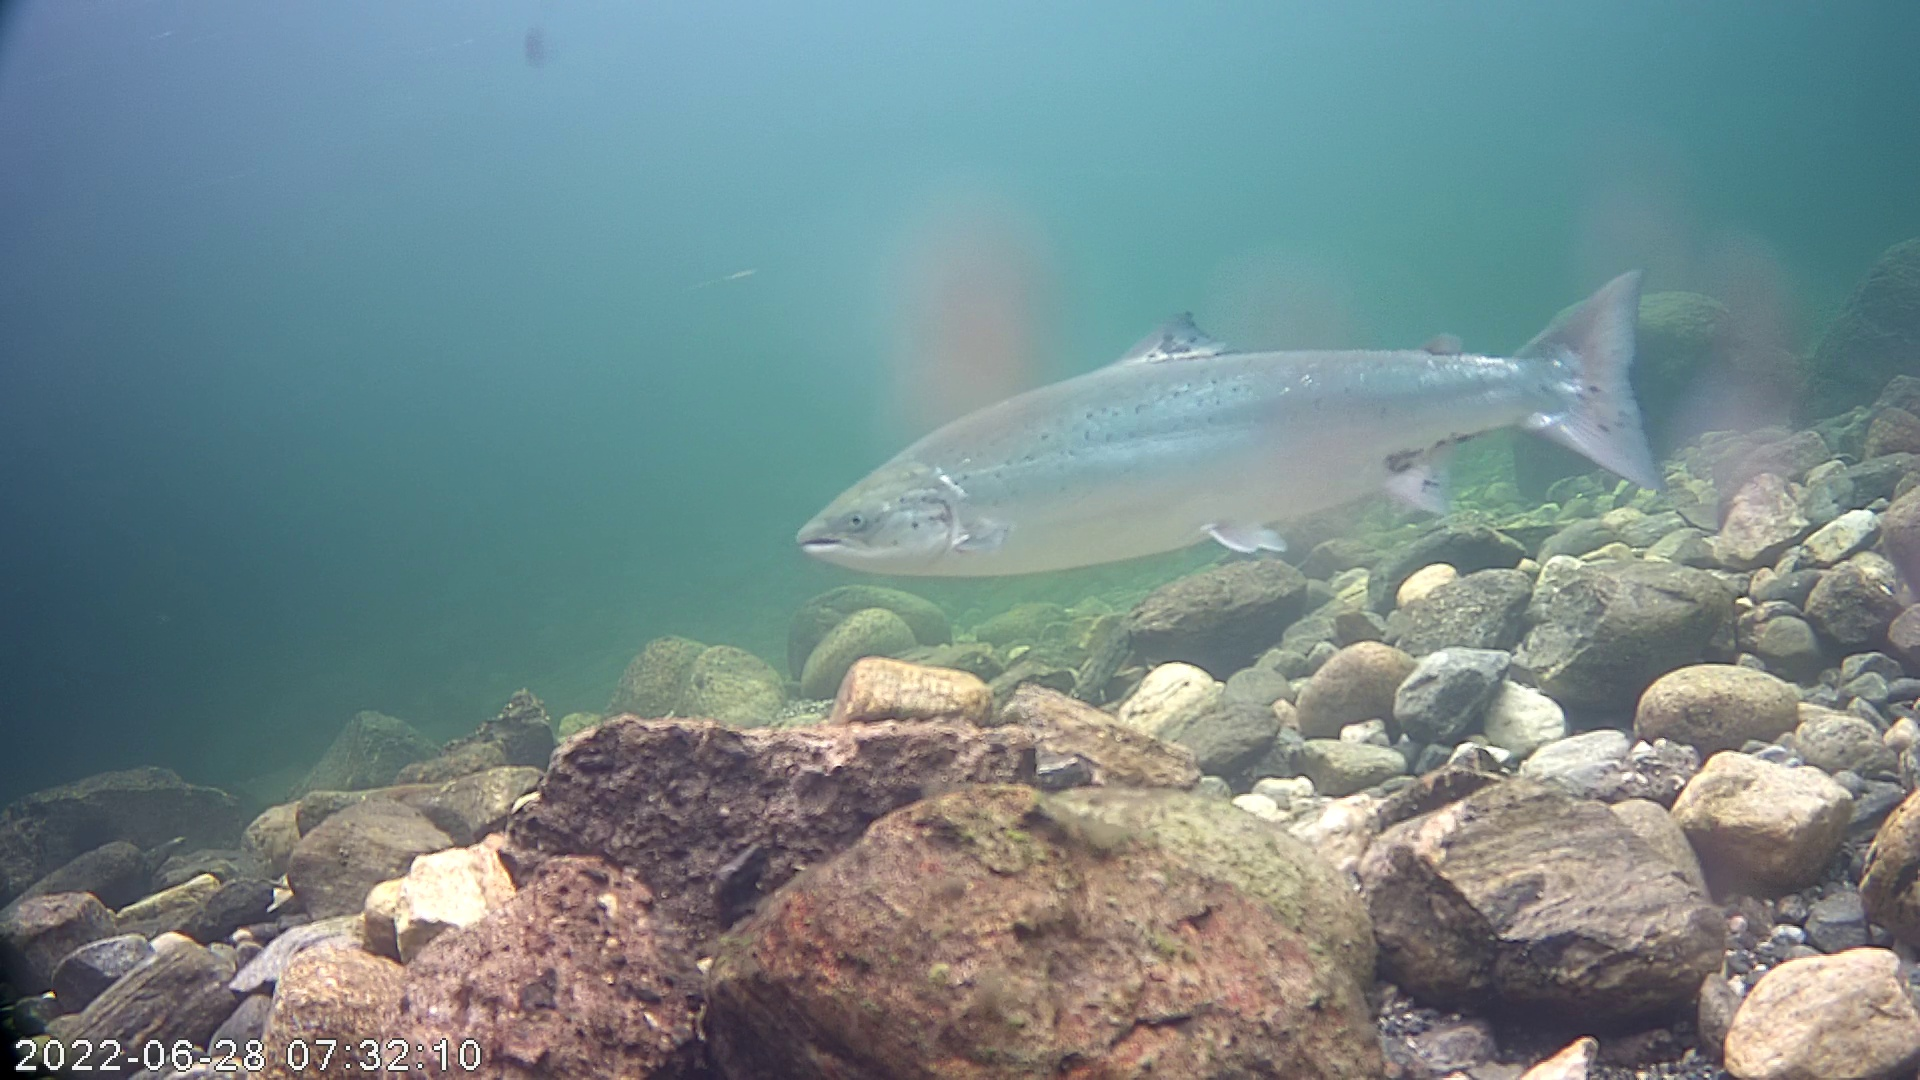salmon: (787, 204, 1695, 622)
